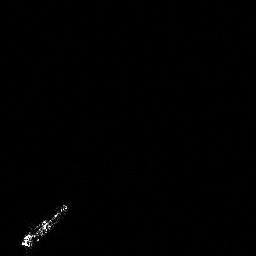ship: (19, 200, 72, 256)
